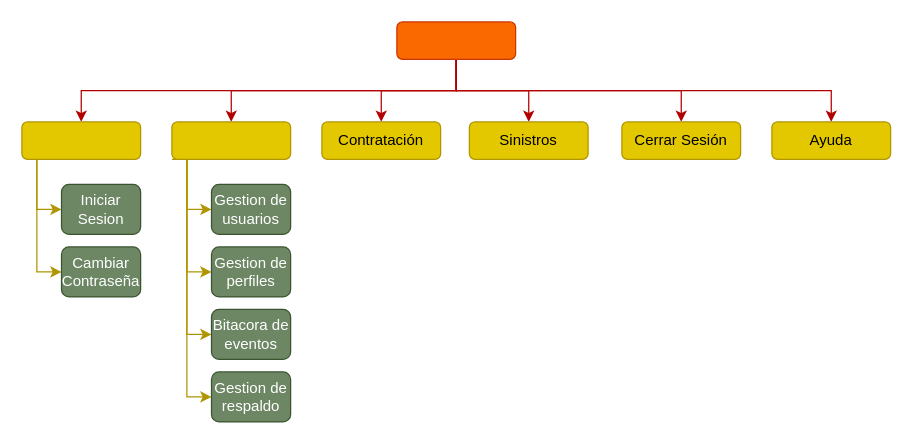
Image size: 913x444. Some labels were removed from this diagram. Each missing label, with the box of its shape:
Administrador: (171, 121, 291, 159)
Menu principal: (396, 21, 516, 59)
Usuario: (21, 121, 141, 159)
